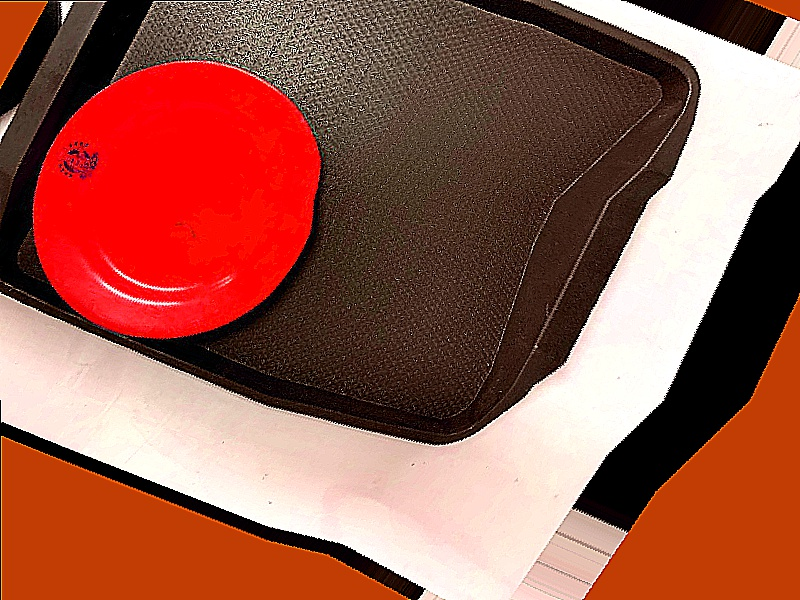dish10: (0, 18, 384, 386)
